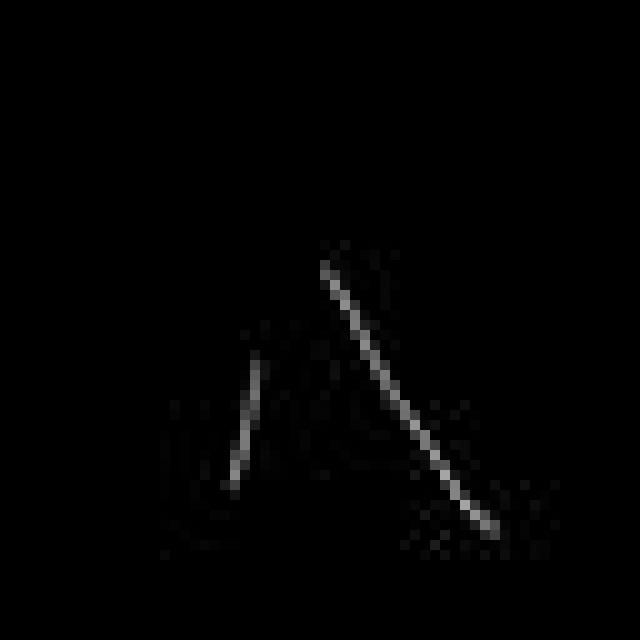8 -eight-: (206, 253, 511, 551)
